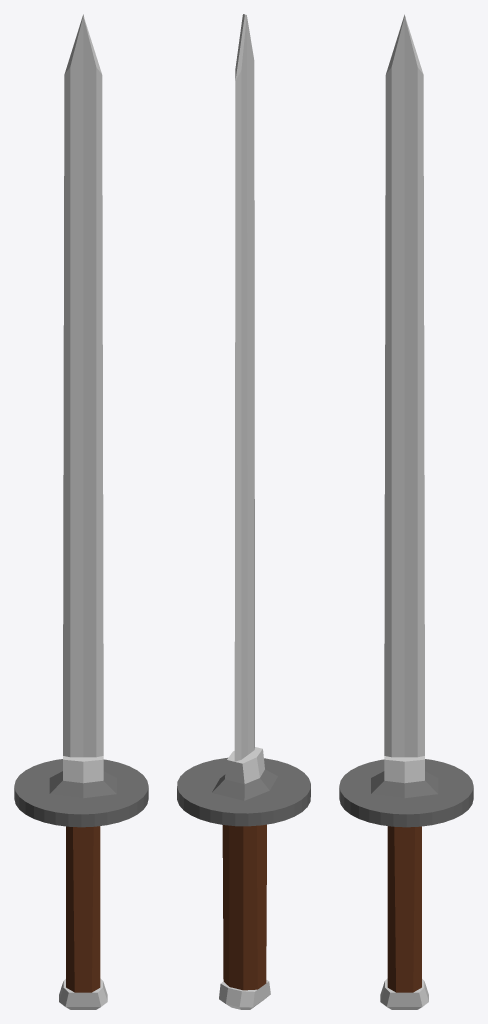
The model's file is sword3.fbx.
The picture shows the model from 3 angles, left to right: view 1: azimuth 90°, elevation 25°; view 2: azimuth 150°, elevation 25°; view 3: azimuth 270°, elevation 25°; orthographic projection.
Parts seen in each view (by area): view 1: Меч3; view 2: Меч3; view 3: Меч3.
Boxes of the visible parts, <box> form: Меч3: <box>14,14,148,1009</box>; Меч3: <box>177,14,310,1009</box>; Меч3: <box>339,14,473,1009</box>.
Size of the model in its own units: 142 by 1152 by 142.
